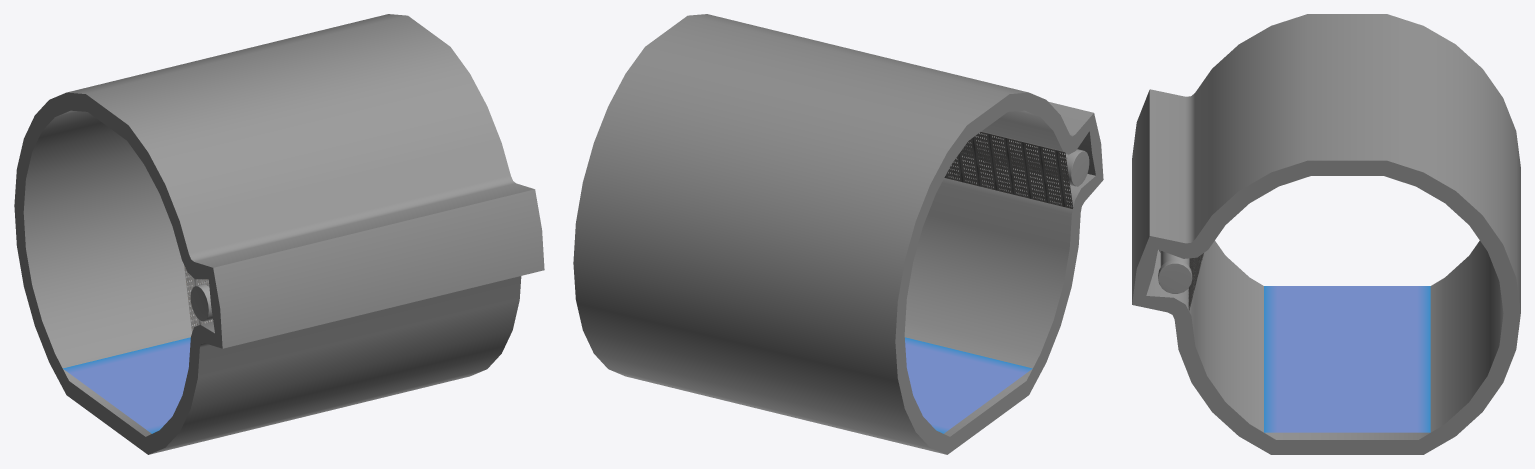
Rendered from Tunnel_SM.FBX.
The picture shows the model from 3 angles, left to right: view 1: azimuth 30°, elevation 25°; view 2: azimuth 150°, elevation 25°; view 3: azimuth 270°, elevation 25°; orthographic projection. The views are drawn at different scales.
Parts seen in each view (by area): view 1: Tunnel_SM, WaterStream_SM, Pipe_SM_000; view 2: Tunnel_SM, WaterStream_SM, Grate_SM, Pipe_SM_000; view 3: Tunnel_SM, WaterStream_SM, Pipe_SM_003.
Boxes of the visible parts, box(x1,y1,x2,y2) form: Tunnel_SM: box(14, 14, 544, 454); WaterStream_SM: box(63, 337, 190, 433); Pipe_SM_000: box(190, 284, 212, 321); Tunnel_SM: box(573, 14, 1103, 454); WaterStream_SM: box(905, 337, 1032, 433); Grate_SM: box(944, 132, 1073, 208); Pipe_SM_000: box(993, 137, 1089, 186); Tunnel_SM: box(1132, 14, 1520, 454); WaterStream_SM: box(1264, 286, 1430, 432); Pipe_SM_003: box(1158, 250, 1192, 293).
Size of what is drawn, in the model's own units: 1000 by 936 by 1120.
